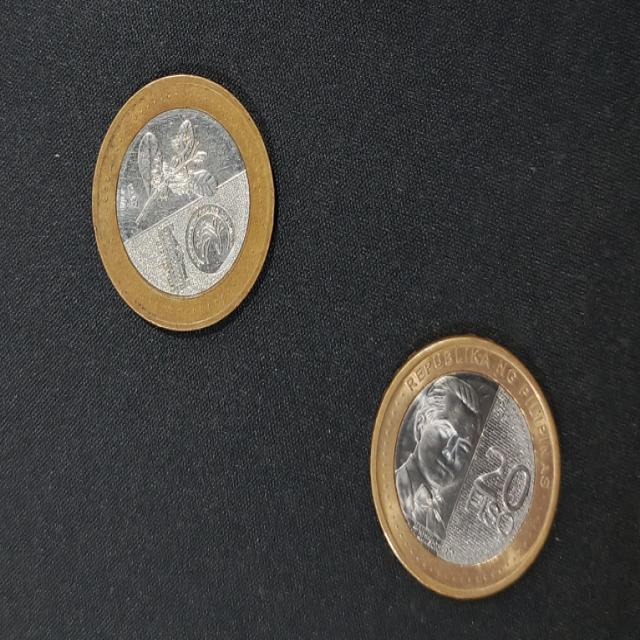20_peso: (371, 335, 559, 597), (93, 76, 273, 329)
